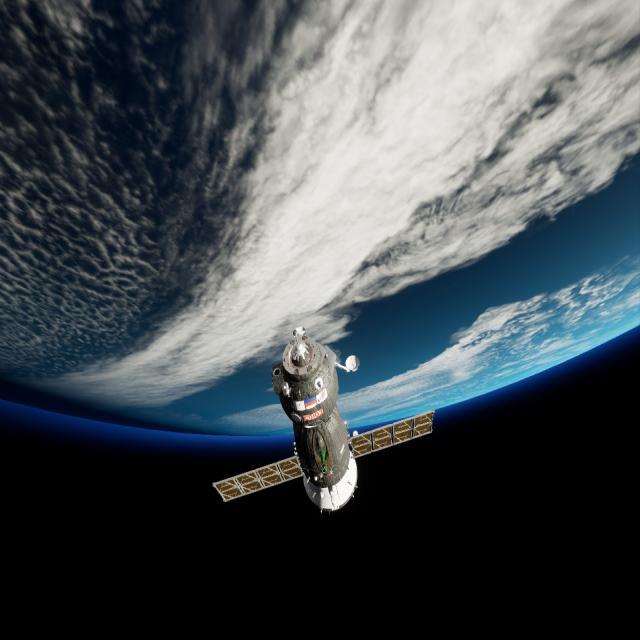Satellites revolving around earth: (270, 324, 362, 515)
